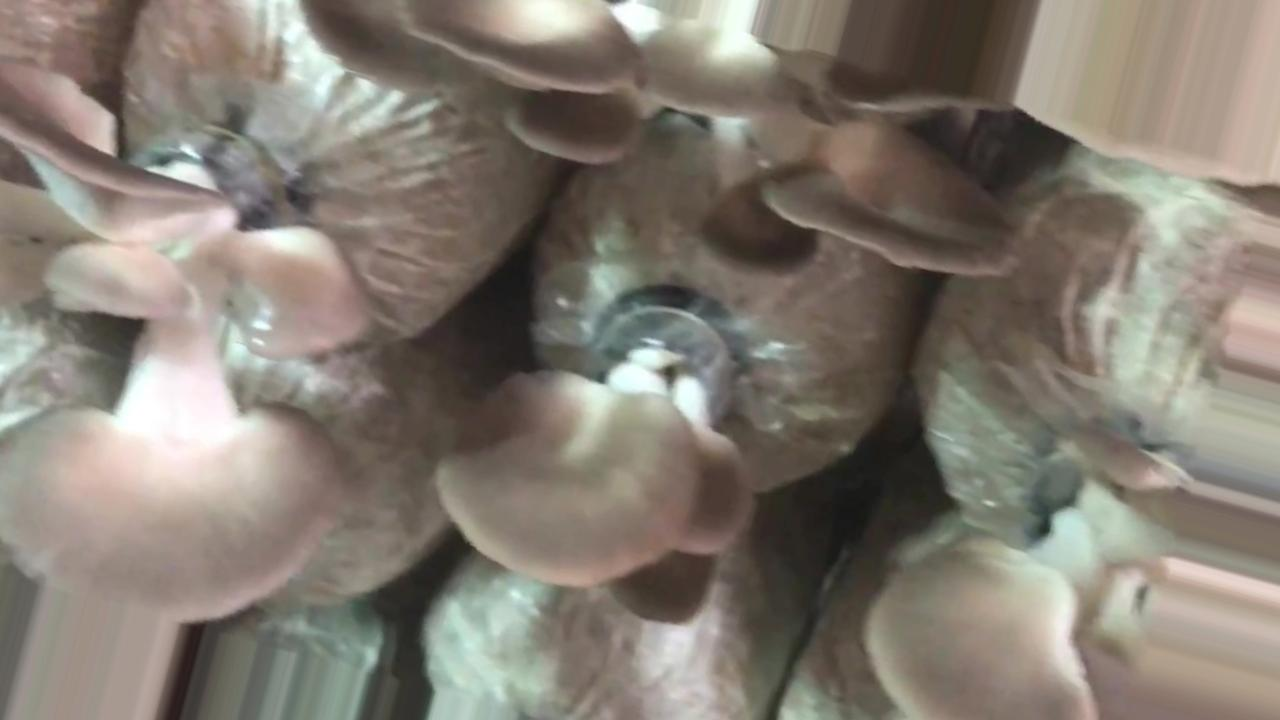nam: (1, 52, 374, 628), (295, 1, 1028, 285), (863, 431, 1280, 719), (438, 289, 760, 631)
